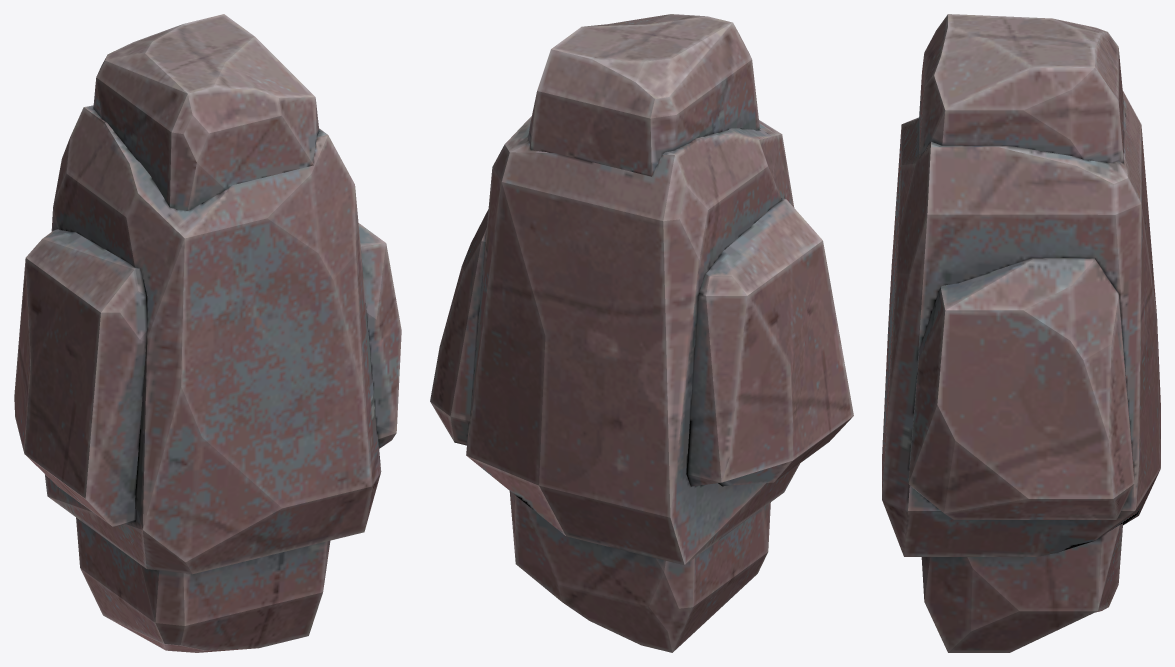
The model's file is IronOre.glb.
3 views of the same model, side by side, from view 1: azimuth 30°, elevation 25°; view 2: azimuth 150°, elevation 25°; view 3: azimuth 270°, elevation 25° (orthographic).
Parts seen in each view (by area): view 1: IronOre; view 2: IronOre; view 3: IronOre.
Part boxes in pixels (x1=…): IronOre: x1=14, y1=14, x2=401, y2=652; IronOre: x1=430, y1=14, x2=853, y2=652; IronOre: x1=882, y1=14, x2=1160, y2=652.
Size of the model in its own units: 0.2254 by 0.3717 by 0.1622.
1 material, 1 textured.
